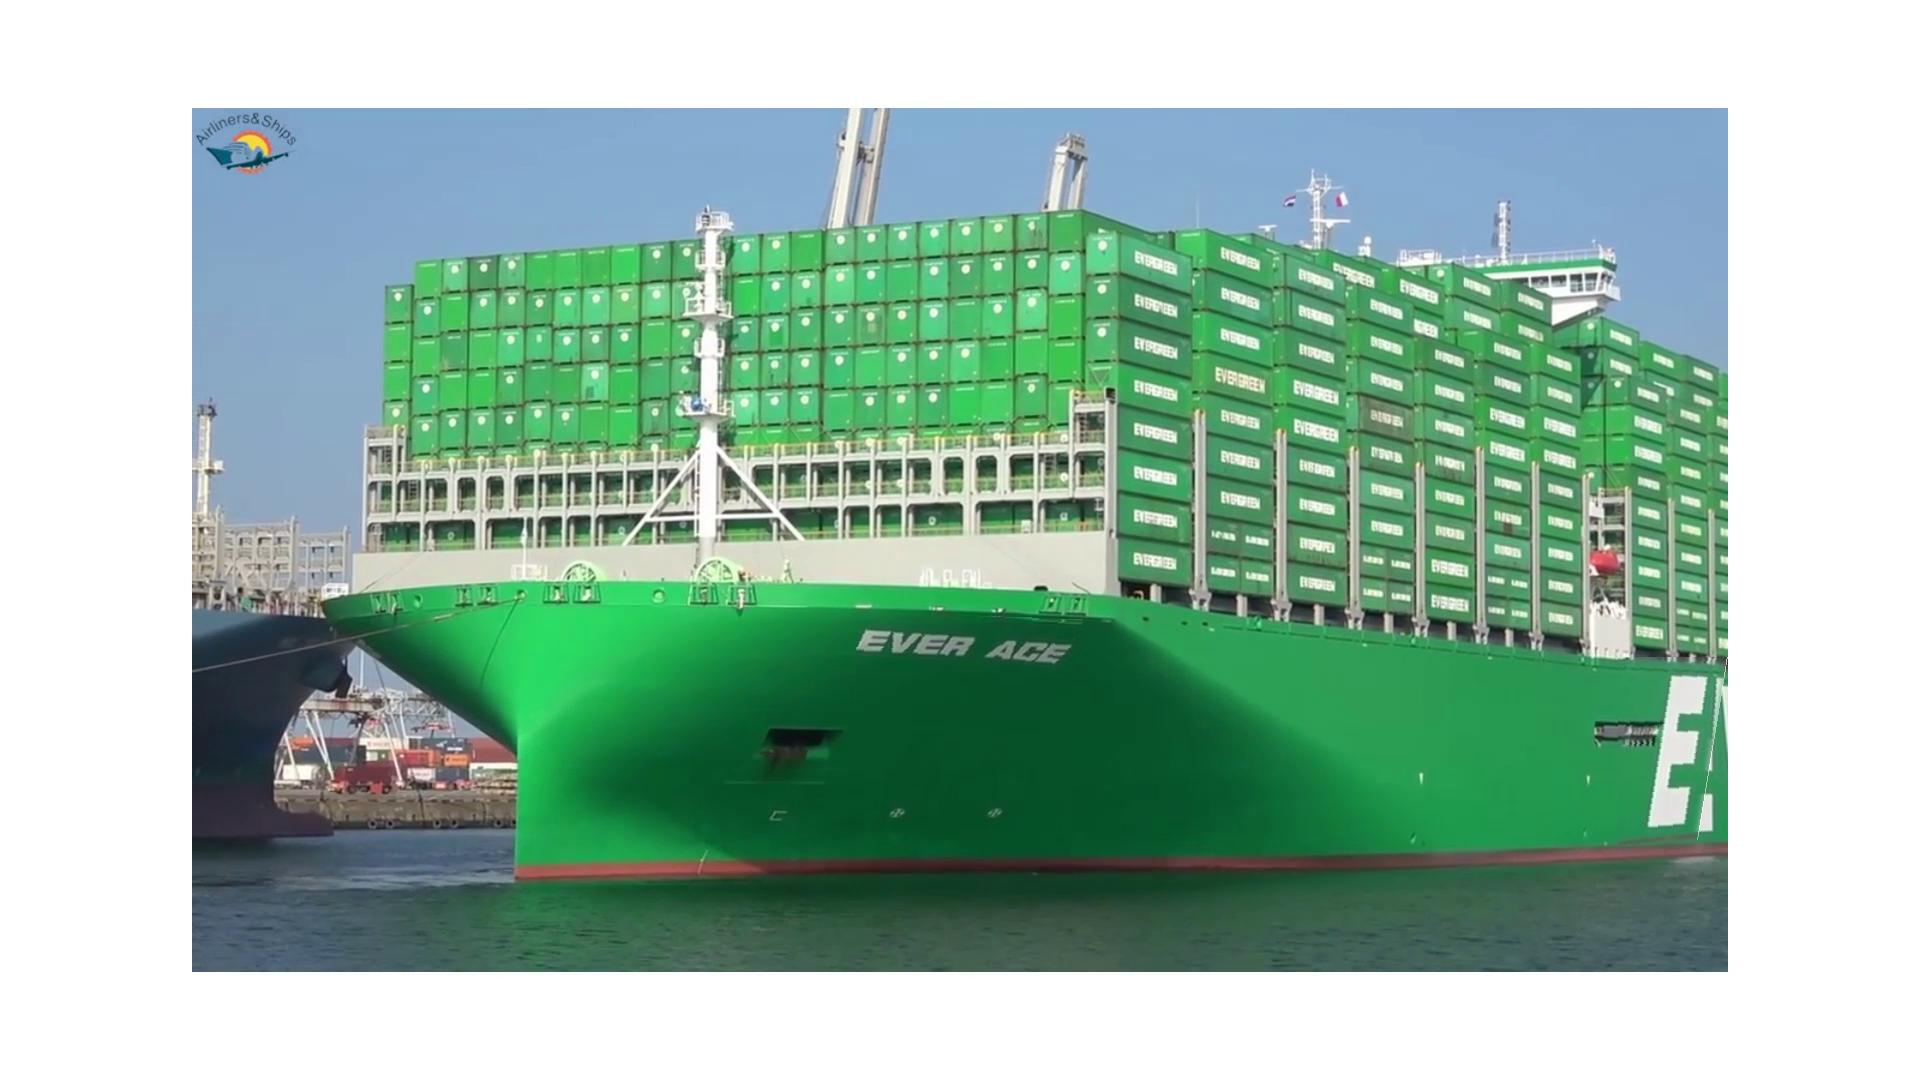OCR: (1618, 658, 1729, 848), (856, 612, 1083, 686)
